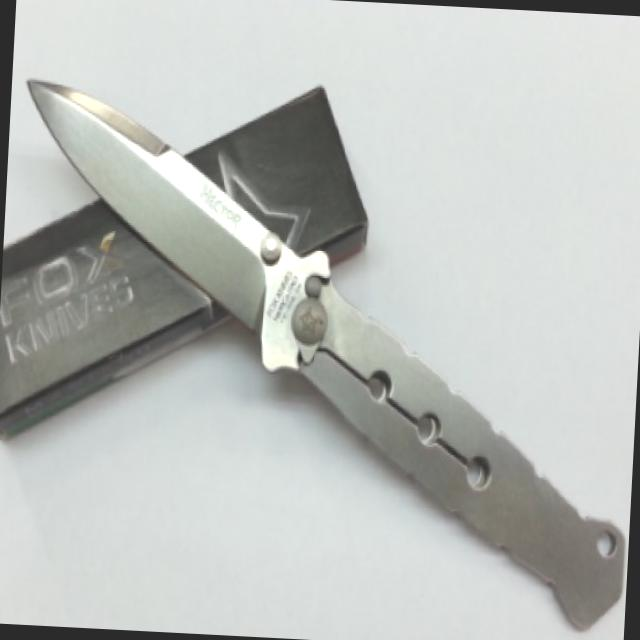knife: (5, 61, 302, 342)
